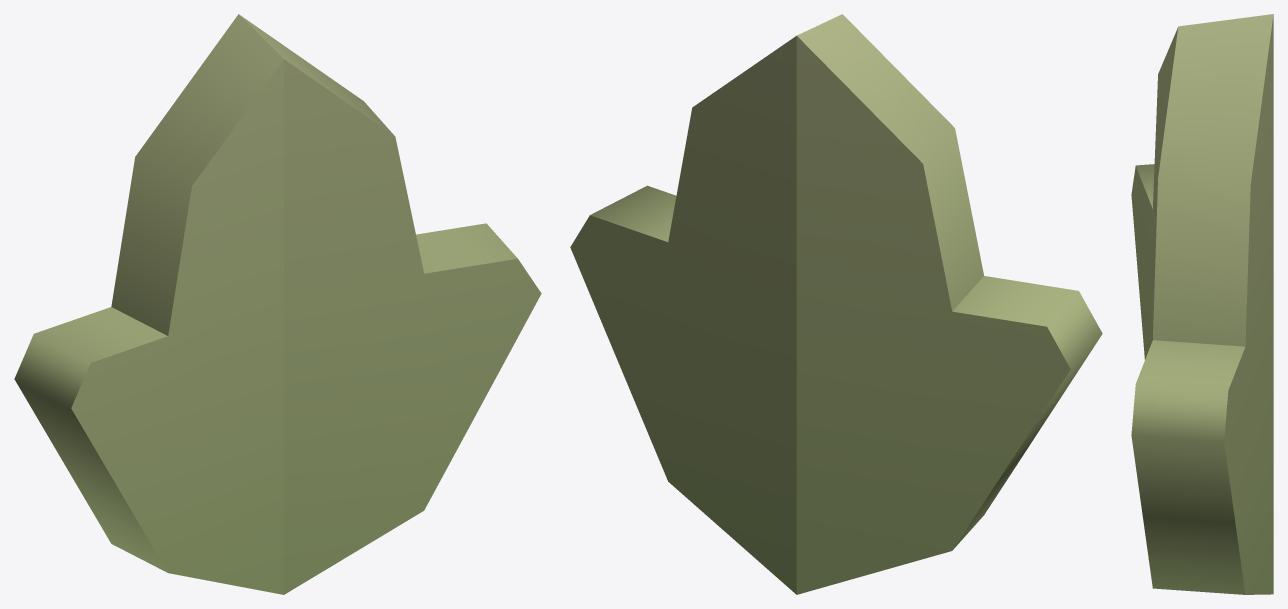
The model's file is organic-leaf-a.glb.
3 views of the same model, side by side, from view 1: azimuth 30°, elevation 25°; view 2: azimuth 150°, elevation 25°; view 3: azimuth 270°, elevation 25° (orthographic). The views are drawn at different scales.
Visible parts, largest first — view 1: organic-leaf-a; view 2: organic-leaf-a; view 3: organic-leaf-a.
Part boxes in pixels (x1,y1,x2,y2): organic-leaf-a: (14,14,541,594); organic-leaf-a: (570,14,1102,594); organic-leaf-a: (1131,14,1273,594).
Size of the model in its own units: 0.1597 by 0.1705 by 0.0378.
